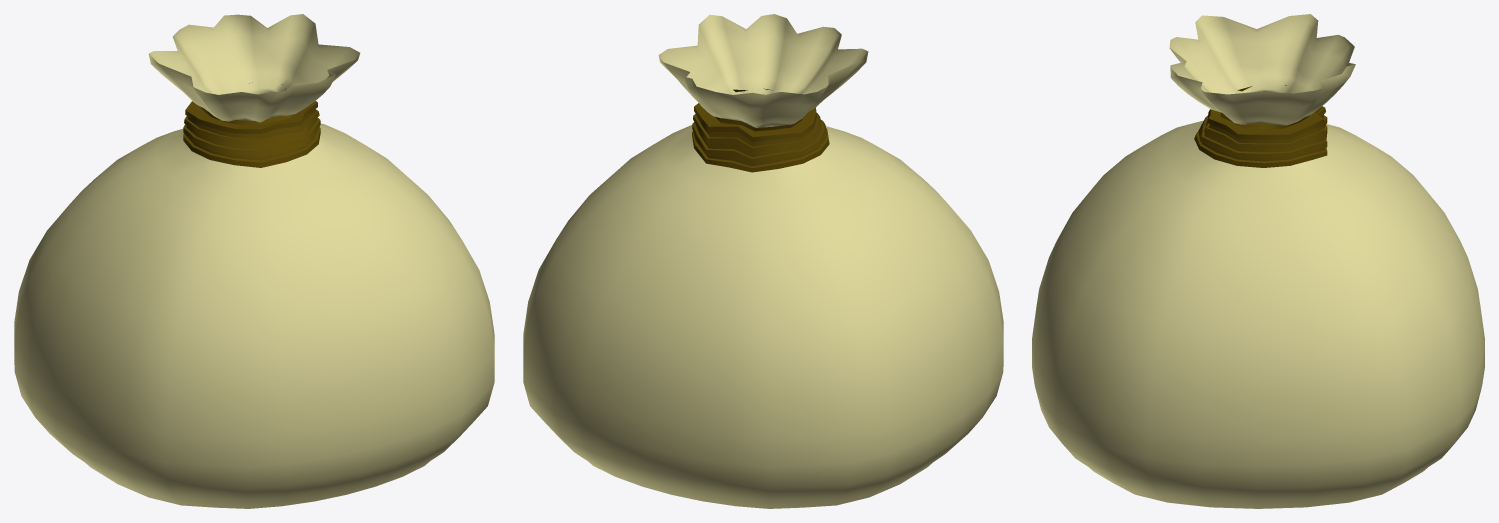
The model's file is gold_bag.fbx.
The picture shows the model from 3 angles, left to right: view 1: azimuth 30°, elevation 25°; view 2: azimuth 150°, elevation 25°; view 3: azimuth 270°, elevation 25°; orthographic projection.
Parts seen in each view (by area): view 1: polySurface2; view 2: polySurface2; view 3: polySurface2.
Part boxes in pixels (bbox=[...]): polySurface2: bbox=[14, 14, 494, 508]; polySurface2: bbox=[523, 14, 1003, 508]; polySurface2: bbox=[1032, 14, 1484, 508].
Bounding box in the file's own units: 1.08 × 0.9759 × 1.05.
